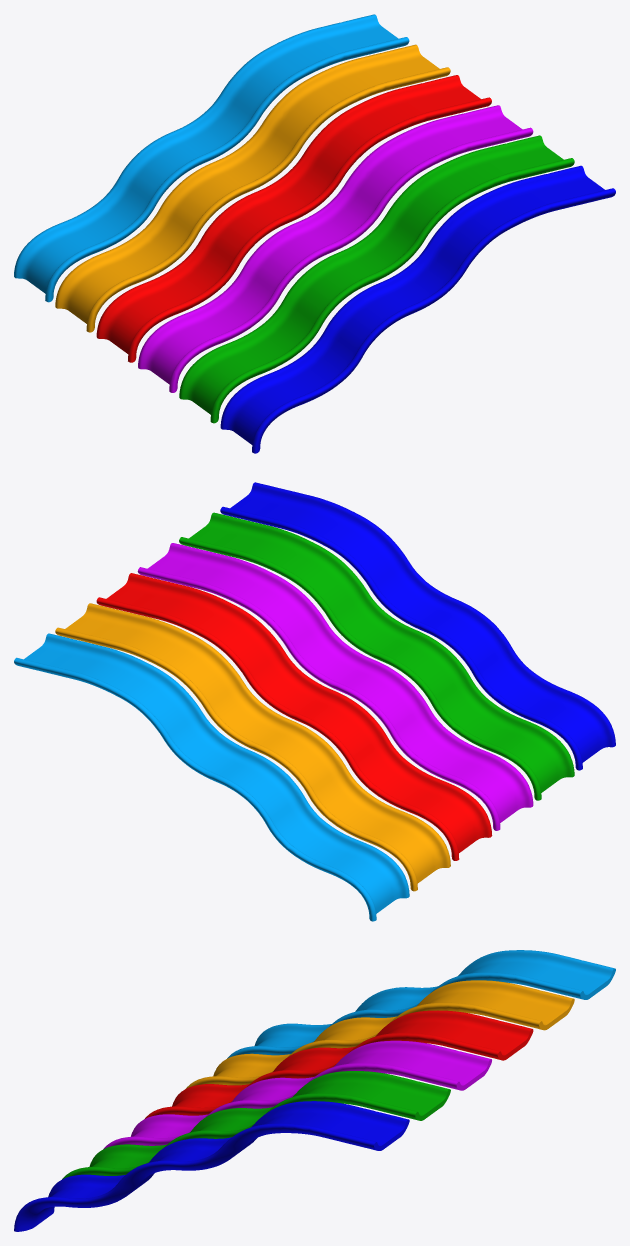
File: Cau truot dai 1.fbx
The picture shows the model from 3 angles, top to bottom: view 1: azimuth 30°, elevation 25°; view 2: azimuth 150°, elevation 25°; view 3: azimuth 330°, elevation 25°; orthographic projection.
Parts seen in each view (by area): view 1: Cau_thang; view 2: Cau_thang; view 3: Cau_thang.
Part boxes in pixels (x1,y1,x2,y2): Cau_thang: [14, 14, 615, 453]; Cau_thang: [14, 482, 615, 921]; Cau_thang: [14, 950, 615, 1231].
Size of the model in its own units: 253 by 117 by 293.
